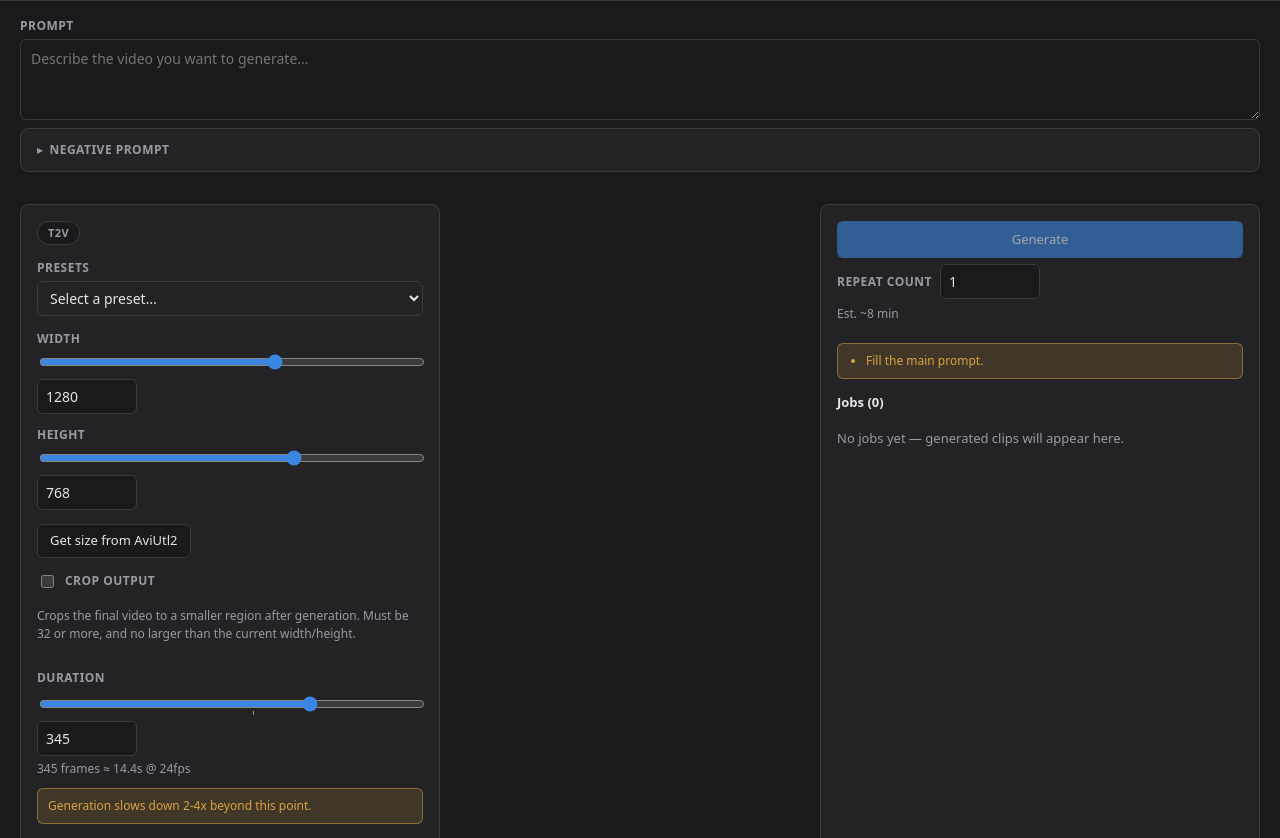
Test: AppShell — IC-LoRA control-LoRA panel (第5波) › having multiple control-LoRA tags appear at once (e.g. a paste) keeps only the LAST one and shows the 'multiple' toast
Expected: the button "Generate" is shown, [837,220,1243,258]
Step 1. Click the text box with placeholder "Describe the video you want to generate…" → click(640, 79), box [20,38,1260,120]
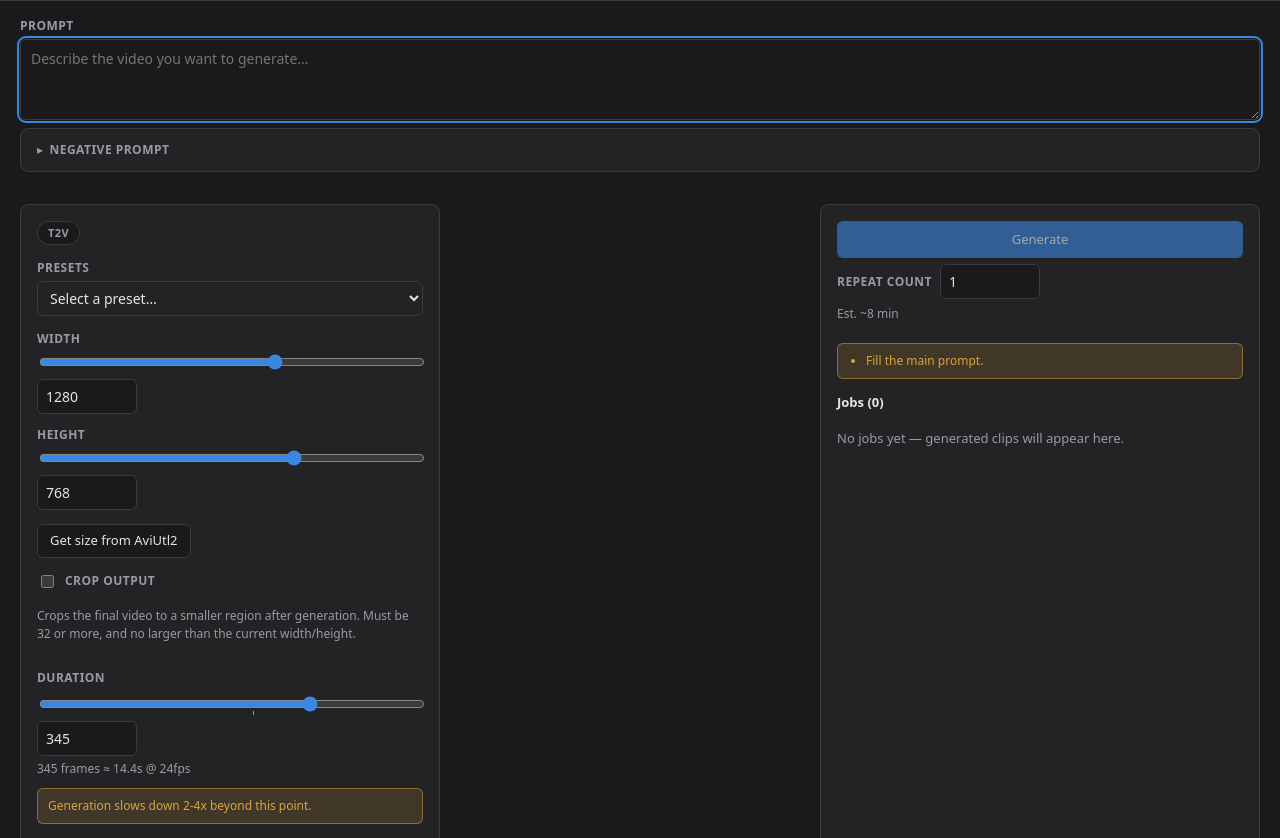
Step 2. Type keys "<lora:canny-control:1.0> a cat <lora:pose-control:0.5> riding a skateboard"
(page scrolled)
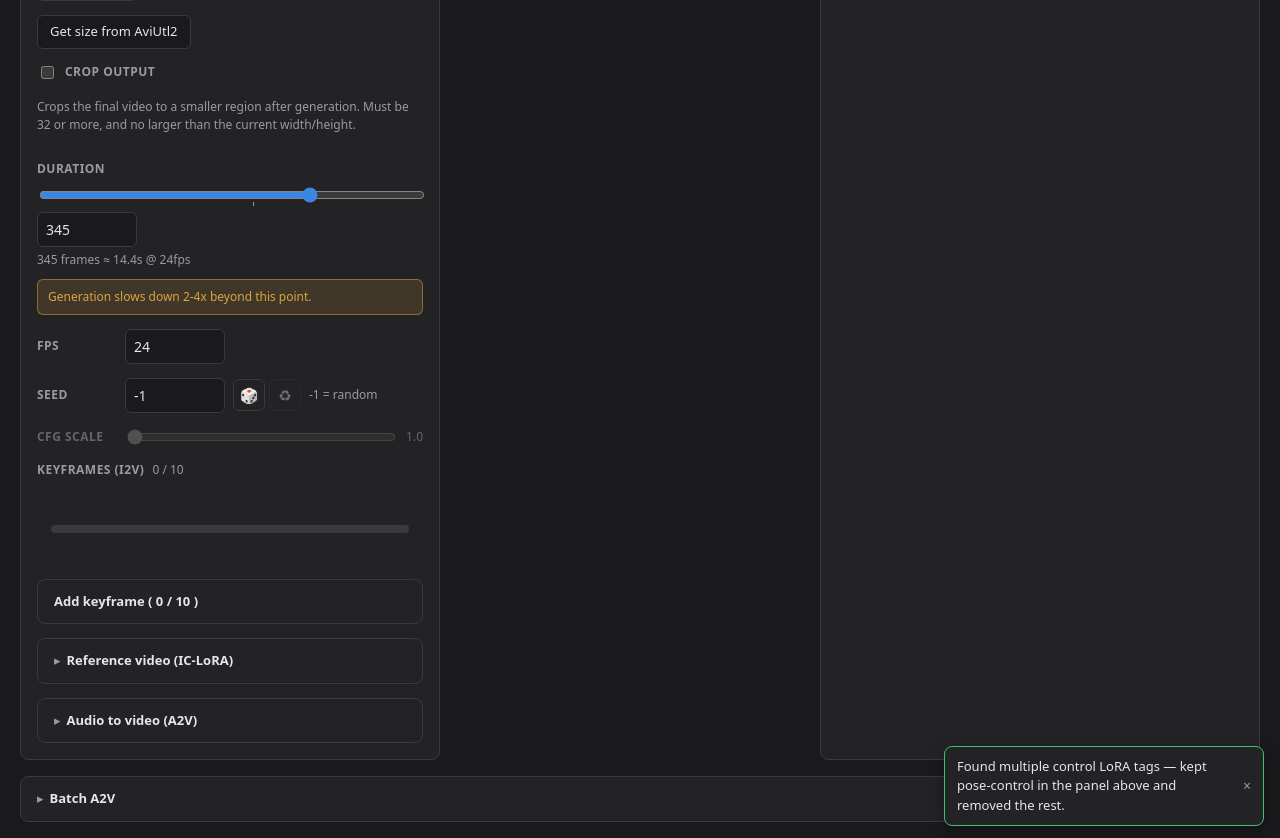
Expected: the button "multiple control LoRA tags" is shown, [949,750,1227,821]
Step 3. Click the heading "Reference video (IC-LoRA)" → click(150, 660), box [66,651,233,669]
(page scrolled)
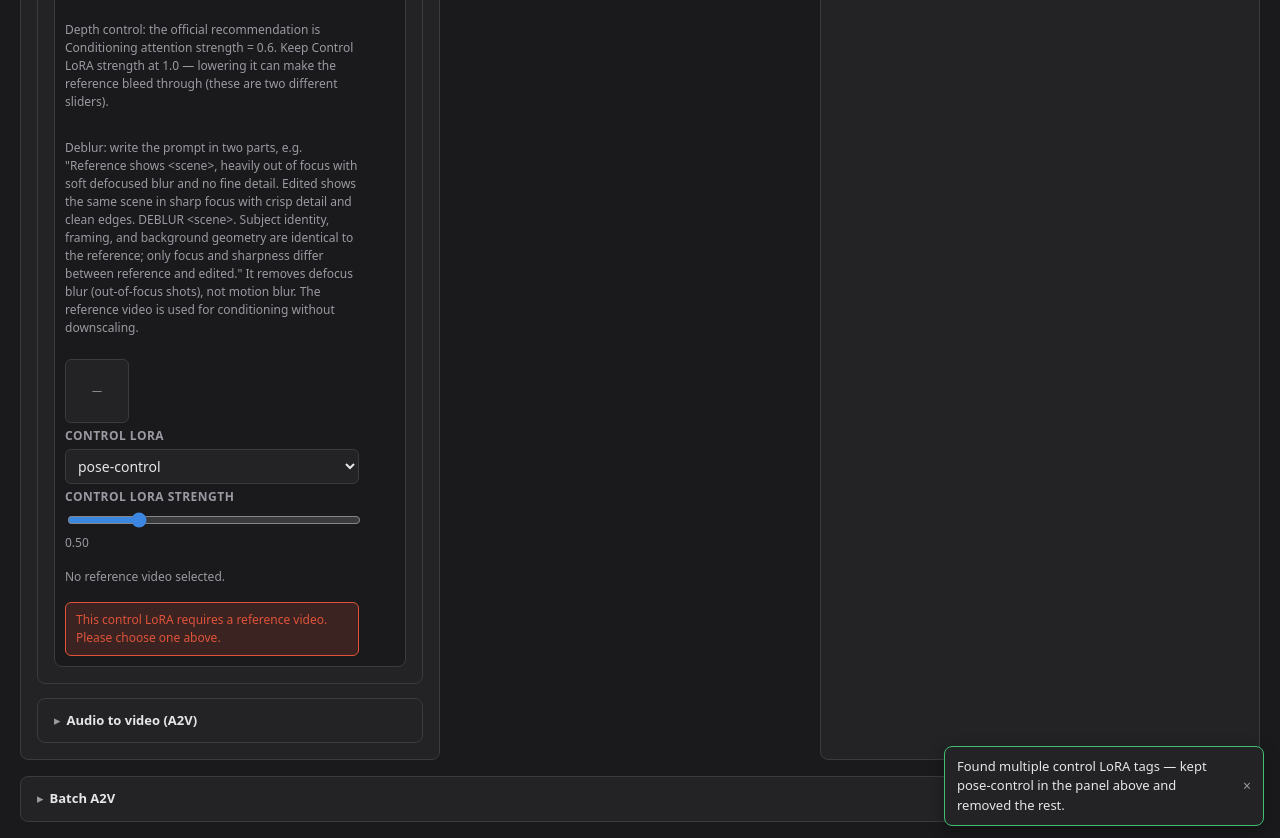
Expected: the dropdown labelled "Control LoRA" shows "pose-control", [65,448,359,484]
